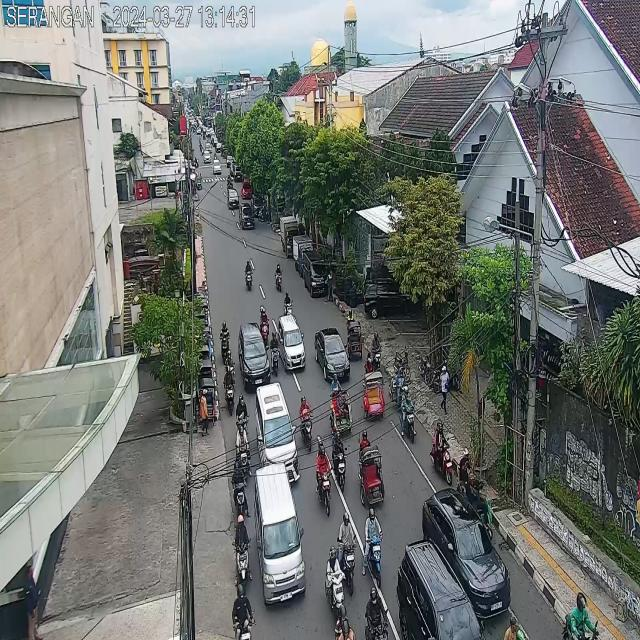car: (422, 485, 511, 621), (397, 539, 484, 640), (254, 463, 306, 604), (255, 383, 301, 485), (238, 324, 270, 388), (316, 327, 350, 382), (278, 315, 306, 372), (304, 251, 327, 298), (240, 204, 254, 229), (251, 194, 265, 217), (228, 189, 240, 209), (242, 182, 252, 199)
motorcycle: (560, 589, 599, 640), (363, 506, 383, 588), (337, 512, 356, 597), (431, 419, 454, 486), (234, 511, 251, 596), (230, 583, 255, 640), (325, 547, 345, 618), (364, 584, 389, 640), (315, 439, 332, 519), (231, 459, 252, 522), (398, 384, 418, 446), (331, 428, 348, 493), (234, 422, 252, 483), (299, 395, 314, 452), (334, 602, 356, 640), (236, 393, 250, 444), (222, 365, 236, 416), (369, 329, 383, 374), (258, 304, 270, 348), (270, 330, 280, 378), (219, 321, 230, 363), (223, 350, 236, 384), (282, 290, 294, 318), (274, 260, 284, 293), (244, 258, 253, 293), (258, 200, 269, 222)
truck: (294, 235, 314, 277), (280, 216, 300, 258)
